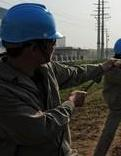hard-hat: (0, 1, 64, 42)
ppe-suit: (0, 55, 103, 154)
